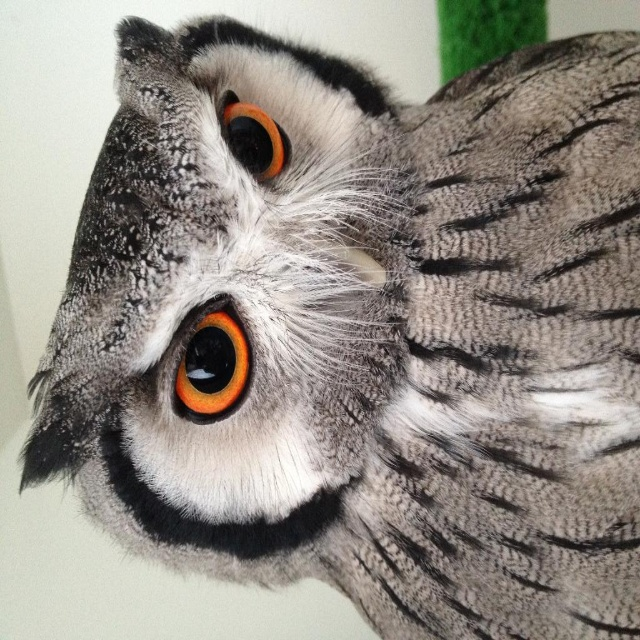Owl: (19, 10, 640, 639)
